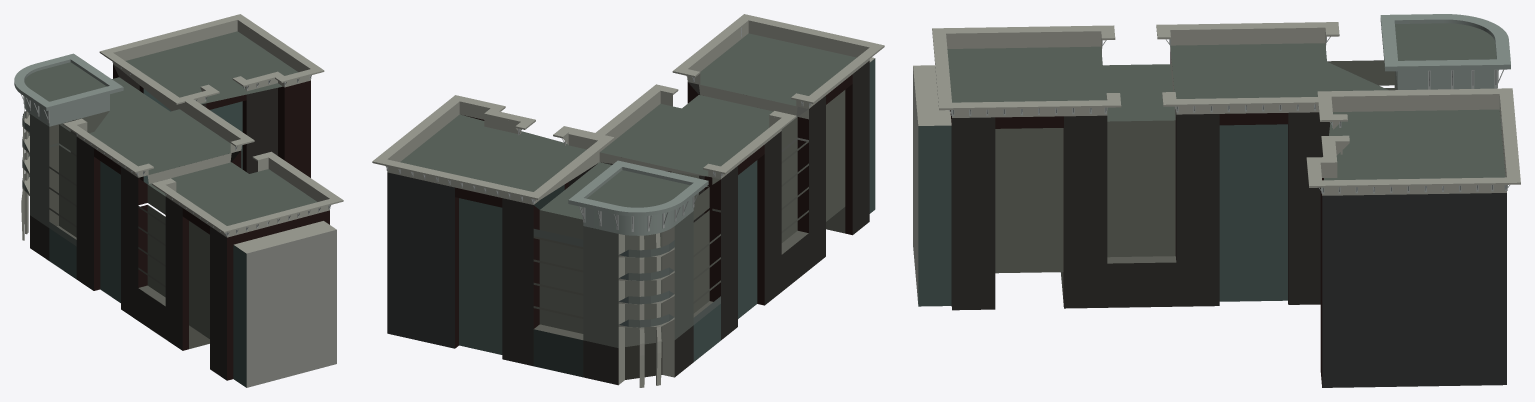
File: hampton-inn-suites-chattanooga-tn.glb
The picture shows the model from 3 angles, left to right: view 1: azimuth 30°, elevation 25°; view 2: azimuth 150°, elevation 25°; view 3: azimuth 270°, elevation 25°; orthographic projection. The views are drawn at different scales.
Visible parts, largest first — view 1: LOD0; view 2: LOD0; view 3: LOD0.
Boxes of the visible parts, x1=… form: LOD0: x1=14, y1=14, x2=343, y2=387; LOD0: x1=372, y1=14, x2=884, y2=387; LOD0: x1=913, y1=14, x2=1520, y2=387.
Size of what is drawn, in the model's own units: 42.96 by 25.86 by 66.58.
Materials: 2 (2 with a texture image).
